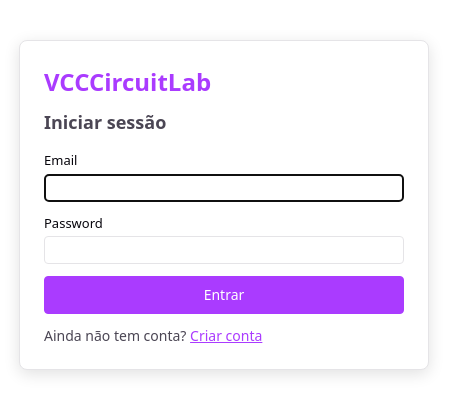
Test: LoginScreen › pede email e password antes de contactar a API
This screenshot has width=449, height=418.
Click the button "Entrar" at (224, 295), box [44,276,404,314]
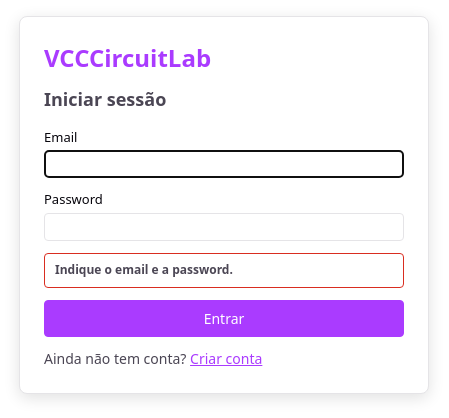
Now the message reads "Indique o email e a password.", box [55,261,233,278]
